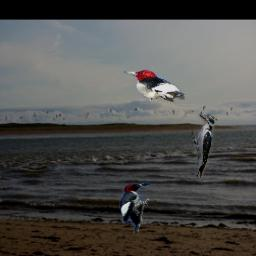Woodpecker: (121, 70, 185, 104), (193, 115, 218, 181), (119, 182, 150, 235)
